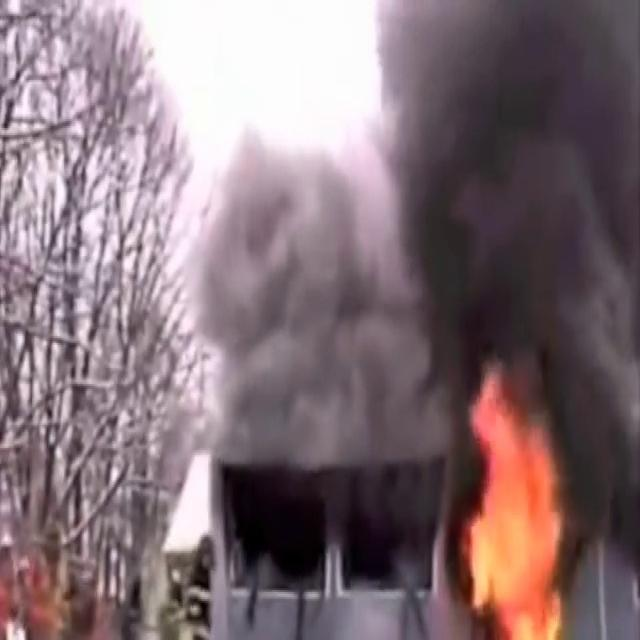Fire: (453, 374, 572, 639)
Smoke: (168, 79, 438, 514), (378, 0, 640, 347)
